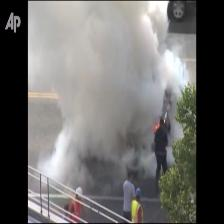smoke: (29, 3, 186, 195)
